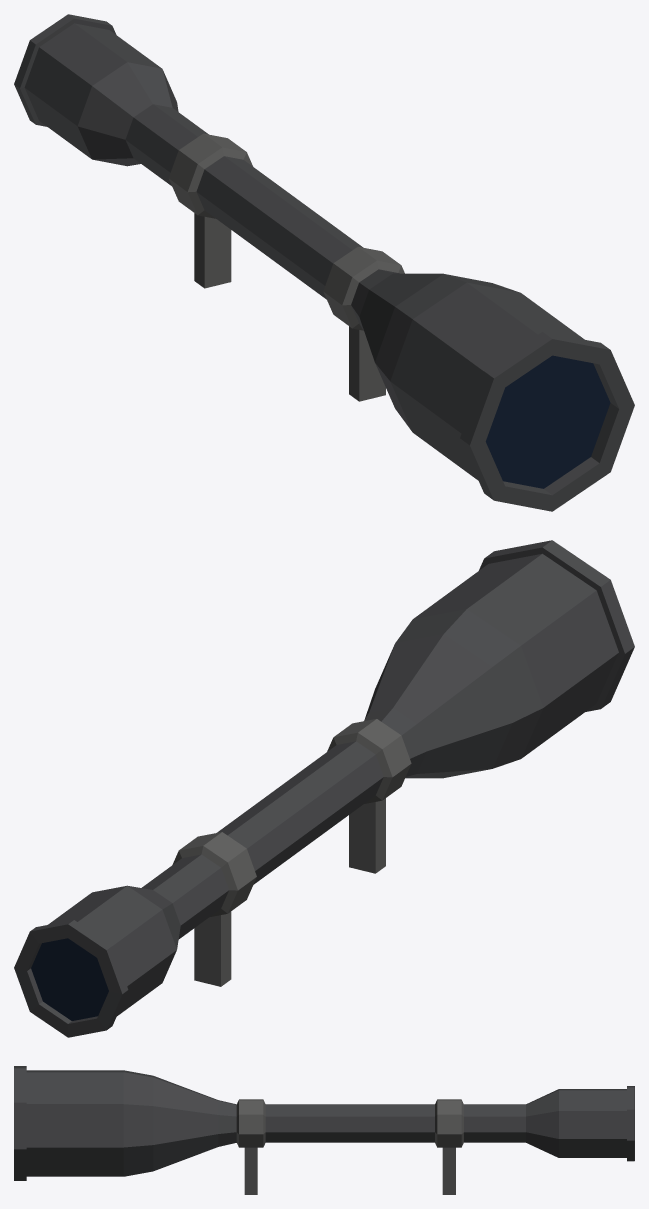
Rendered from scope_short.glb.
3 renders of one model, top to bottom at view 1: azimuth 30°, elevation 25°; view 2: azimuth 150°, elevation 25°; view 3: azimuth 270°, elevation 25°, orthographic. The views are drawn at different scales.
Parts seen in each view (by area): view 1: scope_short; view 2: scope_short; view 3: scope_short.
Boxes of the visible parts, x1,y1,x2,y2 form: scope_short: [14, 14, 634, 511]; scope_short: [14, 540, 634, 1037]; scope_short: [14, 1066, 634, 1194].
Bounding box in the file's own units: 0.3785 × 0.4187 × 1.92.
